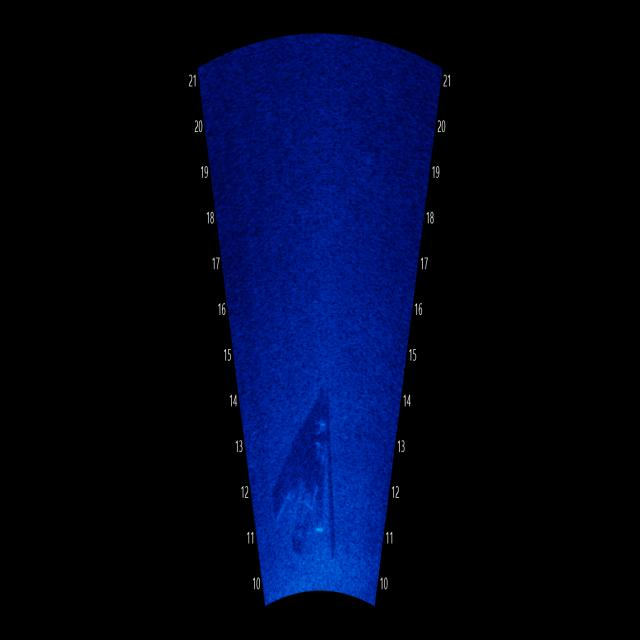triangle: (268, 378, 354, 572)
